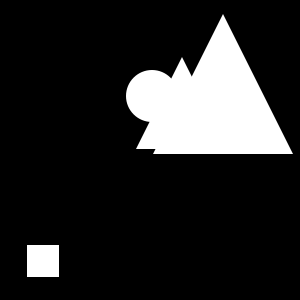circle: (27, 245, 59, 277)
rectangle: (126, 70, 178, 122)
triangle: (153, 14, 293, 154), (136, 57, 228, 149)
